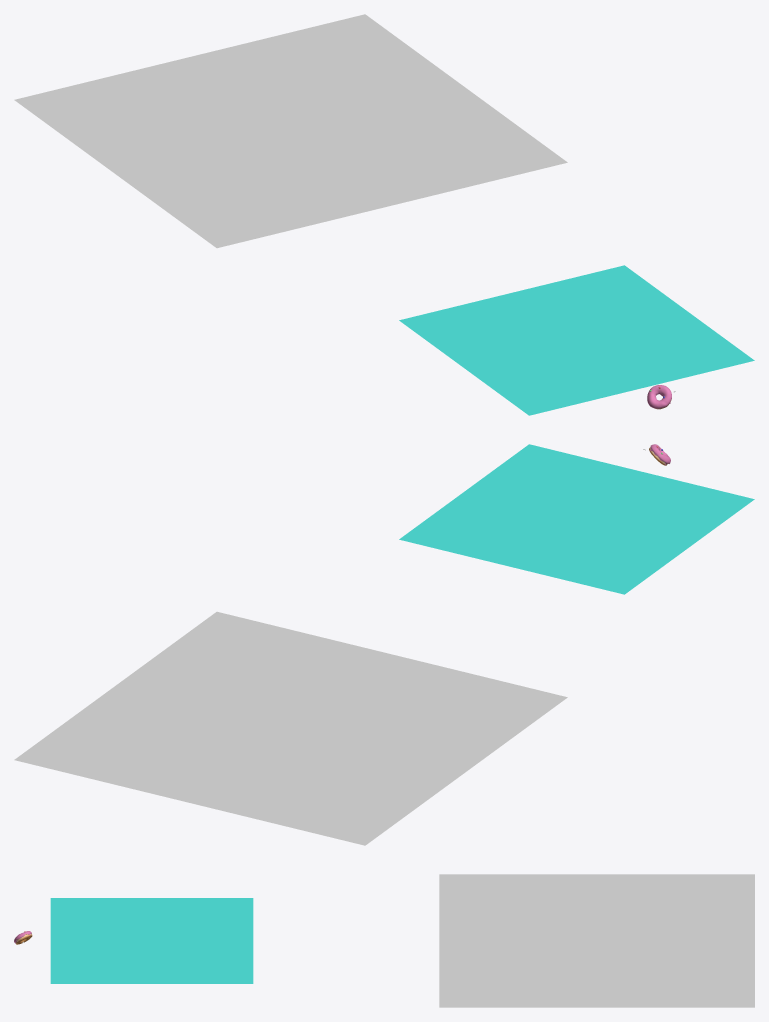
File: donut.glb
3 views of the same model, one above another, from view 1: azimuth 30°, elevation 25°; view 2: azimuth 150°, elevation 25°; view 3: azimuth 270°, elevation 25° (orthographic). The views are drawn at different scales.
Parts seen in each view (by area): view 1: Plane.001, Plane; view 2: Plane.001, Plane; view 3: Plane.001, Plane.
Boxes of the visible parts, x1=… form: Plane.001: x1=14, y1=14, x2=567, y2=248; Plane: x1=399, y1=265, x2=754, y2=415; Plane.001: x1=14, y1=611, x2=567, y2=845; Plane: x1=399, y1=444, x2=754, y2=594; Plane.001: x1=439, y1=874, x2=754, y2=1007; Plane: x1=50, y1=898, x2=253, y2=983.
Size of the model in its own units: 2 by 0.1027 by 4.69.
Materials: 7 (1 with a texture image).
